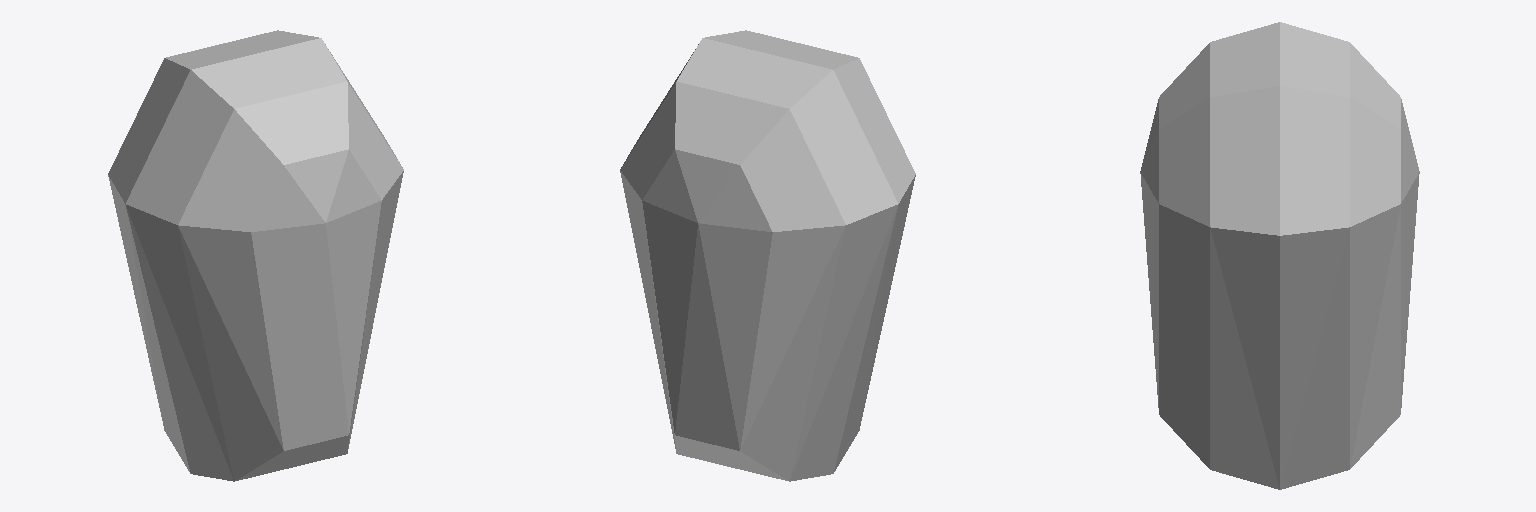
The model's file is bruteBackSimple.obj.
3 views of the same model, side by side, from view 1: azimuth 30°, elevation 25°; view 2: azimuth 150°, elevation 25°; view 3: azimuth 270°, elevation 25° (orthographic).
Parts seen in each view (by area): view 1: Object.1; view 2: Object.1; view 3: Object.1.
Boxes of the visible parts, box(x1,y1,x2,y2) form: Object.1: box(108, 30, 403, 481); Object.1: box(620, 30, 915, 481); Object.1: box(1140, 22, 1419, 489).
Size of the model in its own units: 53.85 by 79.66 by 49.87.